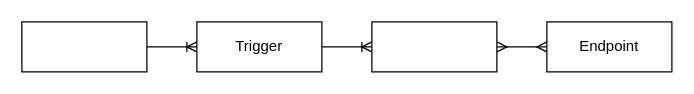
This 694x94 diagram has some shape labels left out. The centre of each missing label's shape, as x and y in pixels:
LogType: pixel 84 46
Transformer: pixel 434 46
